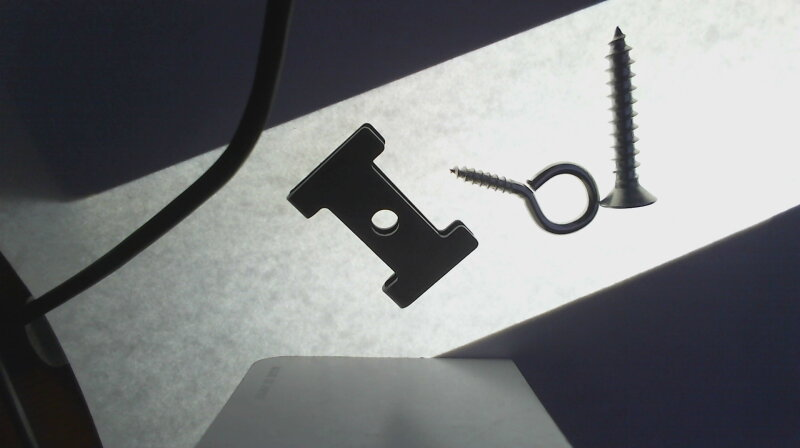O001: (448, 161, 601, 235)
O002: (286, 122, 477, 308)
S001: (599, 24, 663, 209)
